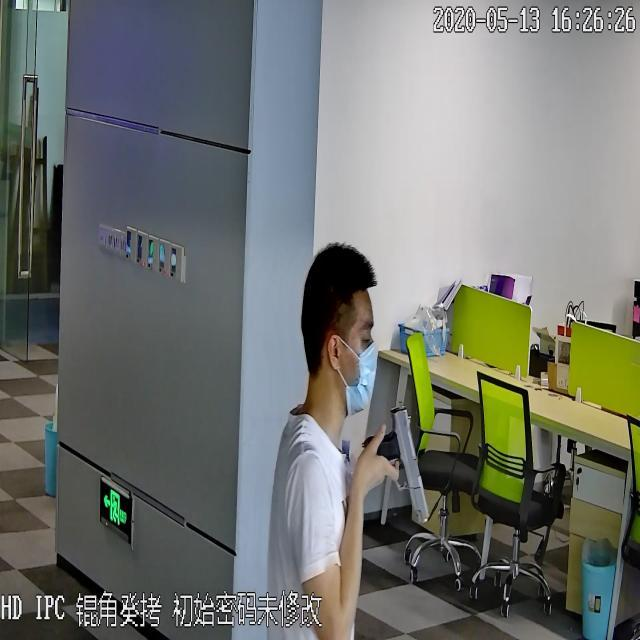gun: (361, 396, 431, 524)
